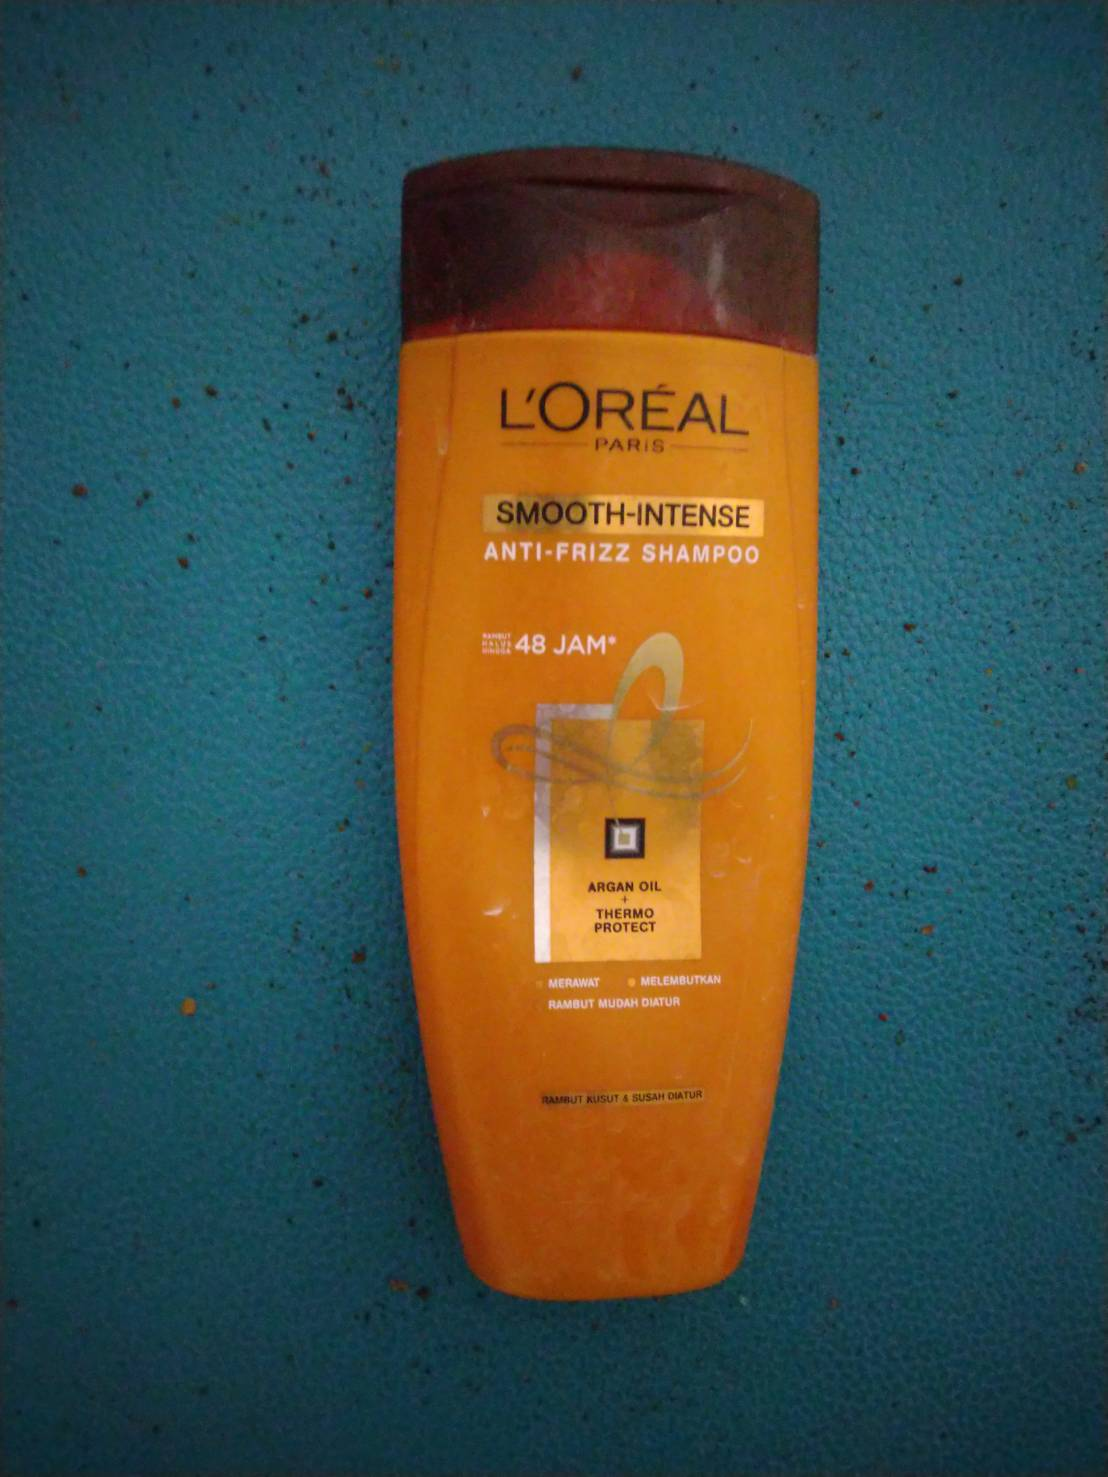HDPE: (397, 141, 815, 1302)
